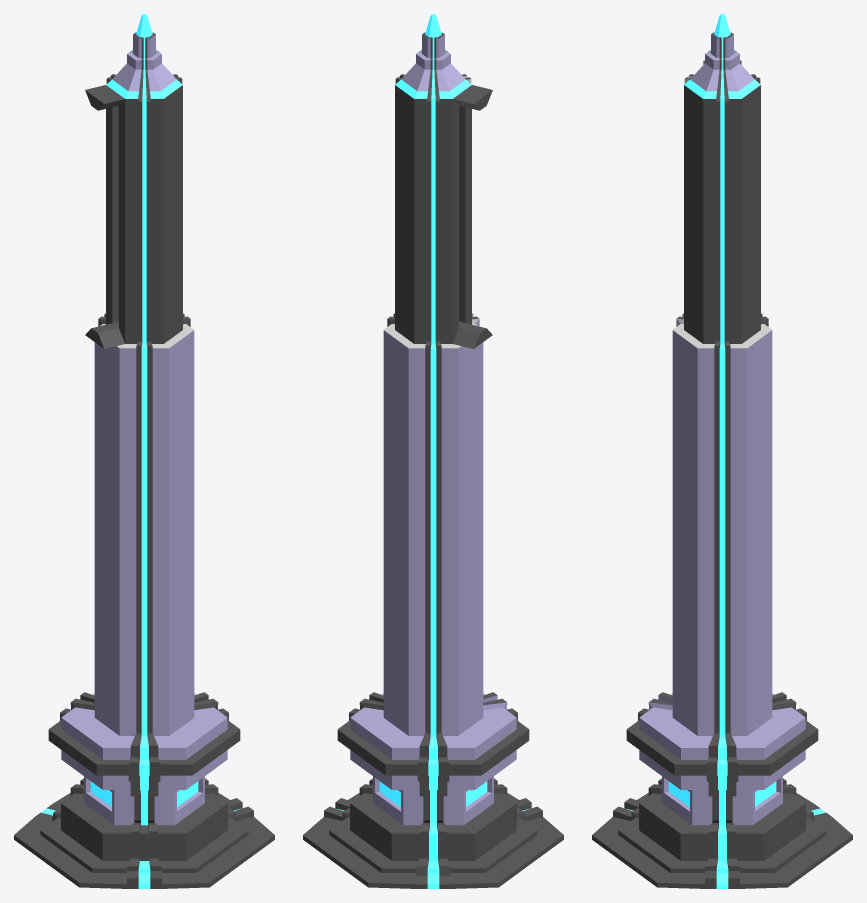
Rendered from stlpfinish.fbx.
3 renders of one model, left to right at view 1: azimuth 30°, elevation 25°; view 2: azimuth 150°, elevation 25°; view 3: azimuth 270°, elevation 25°, orthographic.
Visible parts, largest first — view 1: Circle; view 2: Circle; view 3: Circle.
Boxes of the visible parts, x1,y1,x2,y2 form: Circle: [14, 14, 274, 888]; Circle: [303, 14, 563, 888]; Circle: [592, 14, 852, 888].
Size of the model in its own units: 386 by 1528 by 438.
